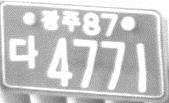1: (133, 43, 153, 96)
4: (45, 36, 73, 86)
7: (99, 40, 126, 92), (72, 37, 99, 88), (100, 12, 118, 38)
8: (80, 10, 99, 35)
광주_O: (39, 8, 80, 33)
다: (9, 34, 43, 75)
